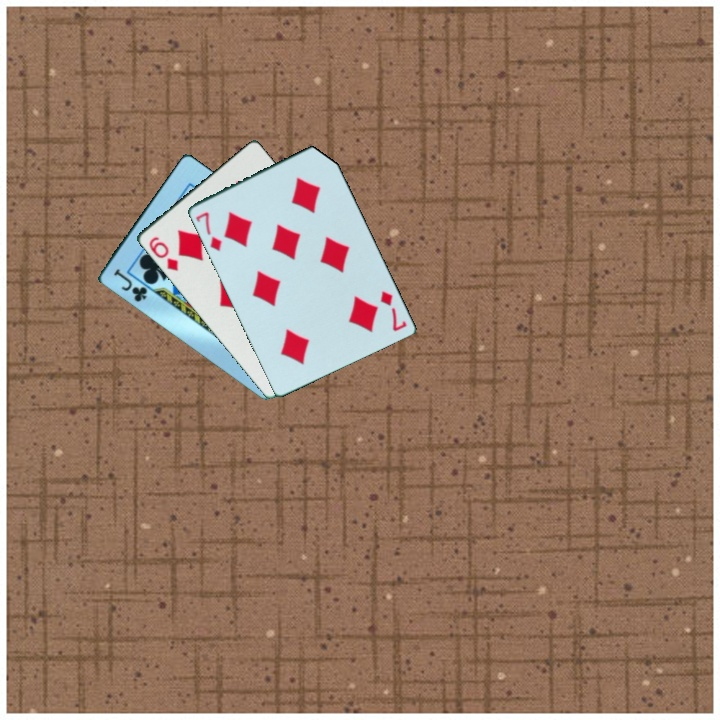6d: (145, 233, 181, 274)
7d: (376, 287, 409, 334), (192, 208, 224, 254)
Jc: (110, 265, 150, 305)
